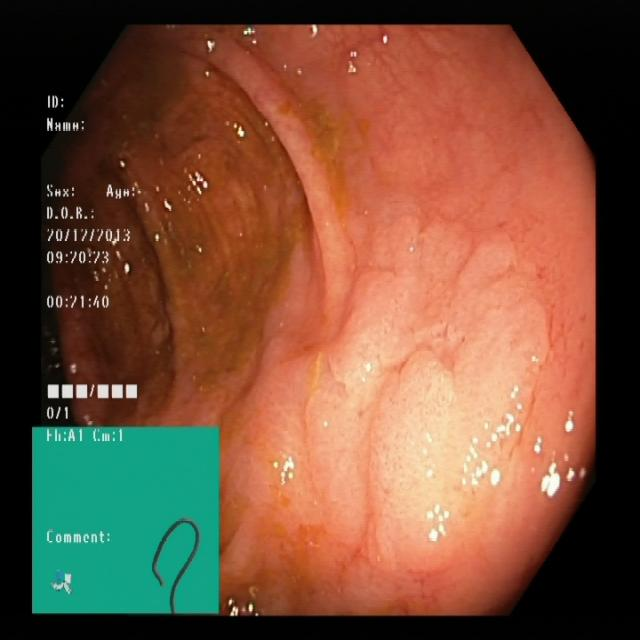Polyps: (213, 224, 557, 612)
